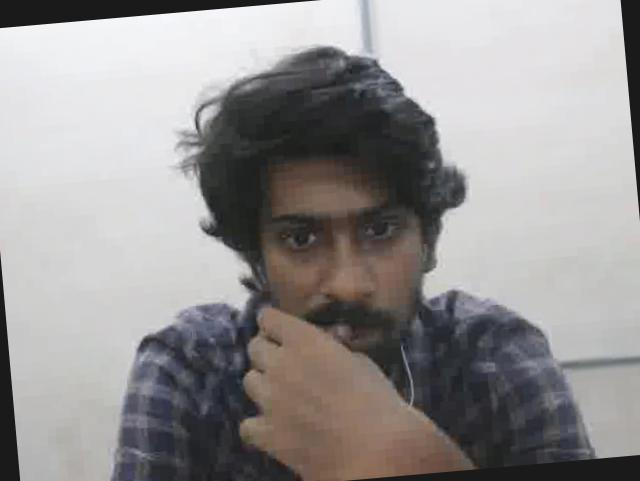bingung: (248, 157, 419, 365)
